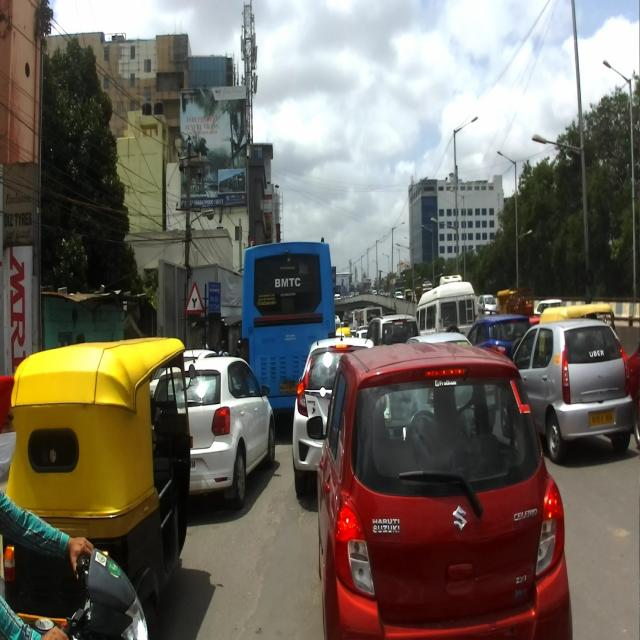Car_Maruti-Suzuki: (305, 342, 574, 639)
Car_TATA: (510, 317, 635, 463)
Car_Volkswagen: (150, 338, 276, 508)
autorickshaw: (7, 336, 195, 638)
bus: (242, 240, 334, 386)
